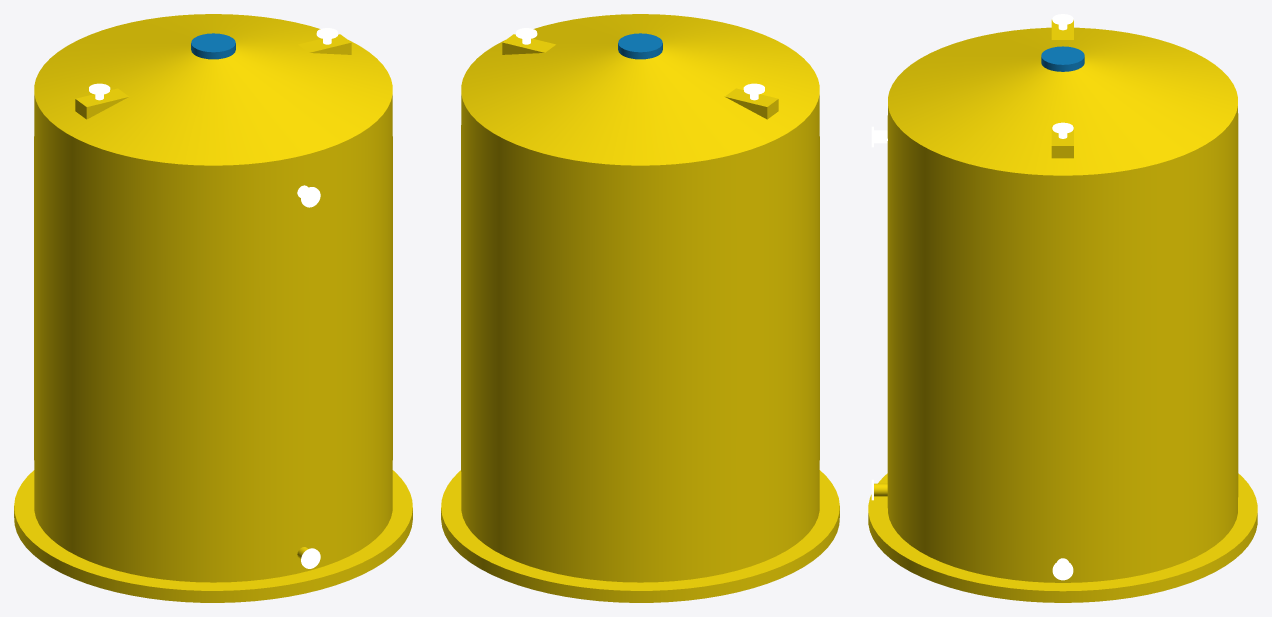
Rendered from iron-salt-tank.gltf.
3 views of the same model, side by side, from view 1: azimuth 30°, elevation 25°; view 2: azimuth 150°, elevation 25°; view 3: azimuth 270°, elevation 25° (orthographic). The views are drawn at different scales.
Parts seen in each view (by area): view 1: 连接的实心几何图形 [213285], 拉伸 [213237], 旋转 [213200]; view 2: 连接的实心几何图形 [213285], 拉伸 [213237], 旋转 [213200]; view 3: 连接的实心几何图形 [213285], 旋转 [213200], 拉伸 [213237].
Part boxes in pixels (box(x1,y1,x2,y2)): 连接的实心几何图形 [213285]: box(14, 14, 412, 602); 拉伸 [213237]: box(75, 34, 351, 119); 旋转 [213200]: box(191, 33, 235, 59); 连接的实心几何图形 [213285]: box(441, 14, 839, 602); 拉伸 [213237]: box(502, 34, 778, 119); 旋转 [213200]: box(618, 33, 662, 59); 连接的实心几何图形 [213285]: box(868, 27, 1257, 602); 旋转 [213200]: box(1041, 46, 1084, 71); 拉伸 [213237]: box(1051, 20, 1073, 158).
Bounding box in the file's own units: 3 × 3.95 × 3.
